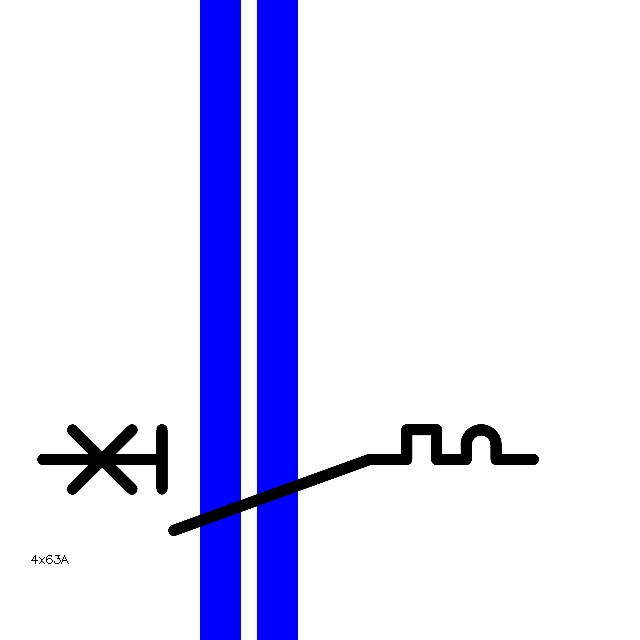interruptor_termomagnetico: (30, 417, 546, 543)
